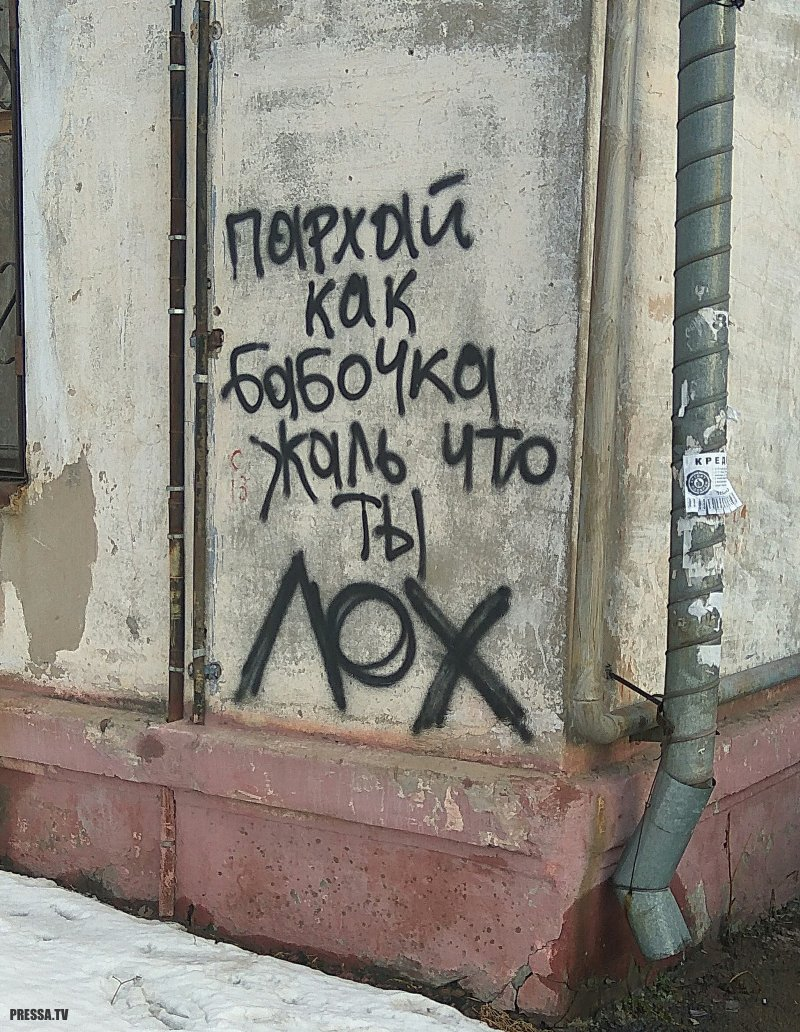graphite: (215, 190, 569, 746)
